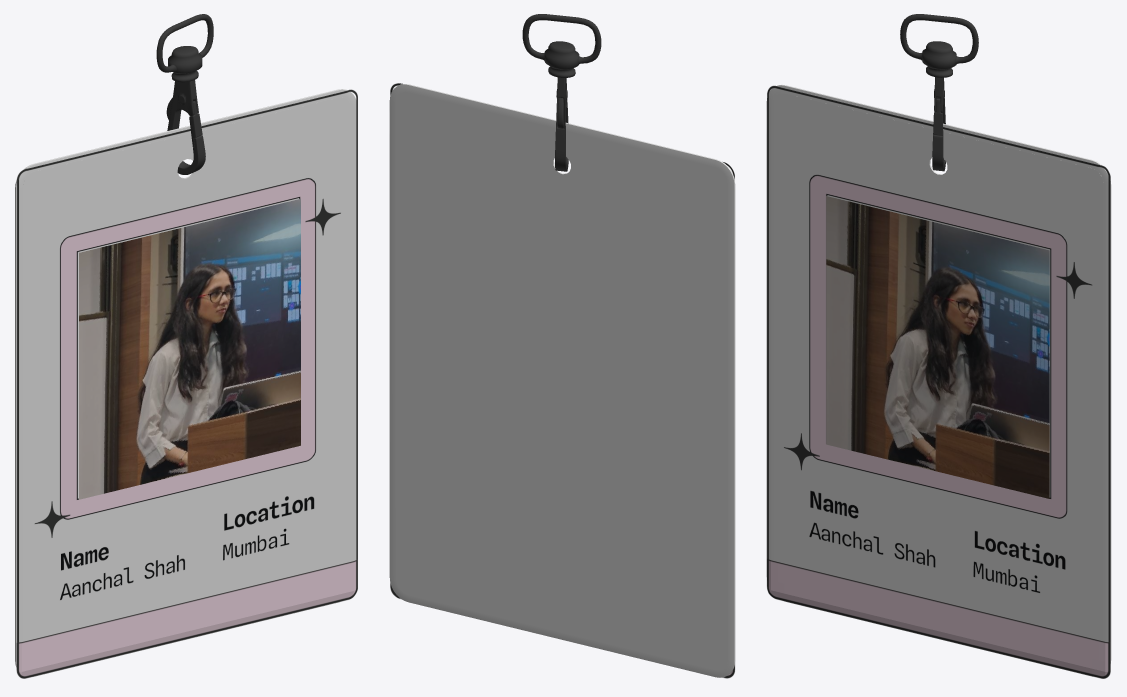
3 renders of one model, left to right at view 1: azimuth 30°, elevation 25°; view 2: azimuth 150°, elevation 25°; view 3: azimuth 330°, elevation 25°, orthographic.
Parts seen in each view (by area): view 1: Untitled-1, card, clamp, clip; view 2: card, clip, clamp; view 3: Untitled-1, card, clip, clamp.
Boxes of the visible parts, left/top/right/bottom form: Untitled-1: left=16, top=89, right=357, bottom=678; card: left=15, top=89, right=356, bottom=676; clamp: left=166, top=80, right=205, bottom=174; clip: left=156, top=14, right=213, bottom=82; card: left=389, top=84, right=735, bottom=677; clip: left=522, top=14, right=601, bottom=77; clamp: left=555, top=77, right=568, bottom=171; Untitled-1: left=767, top=85, right=1110, bottom=678; card: left=766, top=85, right=1111, bottom=676; clip: left=900, top=14, right=978, bottom=77; clamp: left=932, top=77, right=945, bottom=171.
Size of the model in its own units: 0.8935 by 1.53 by 0.0903.
4 materials, 2 textured.
